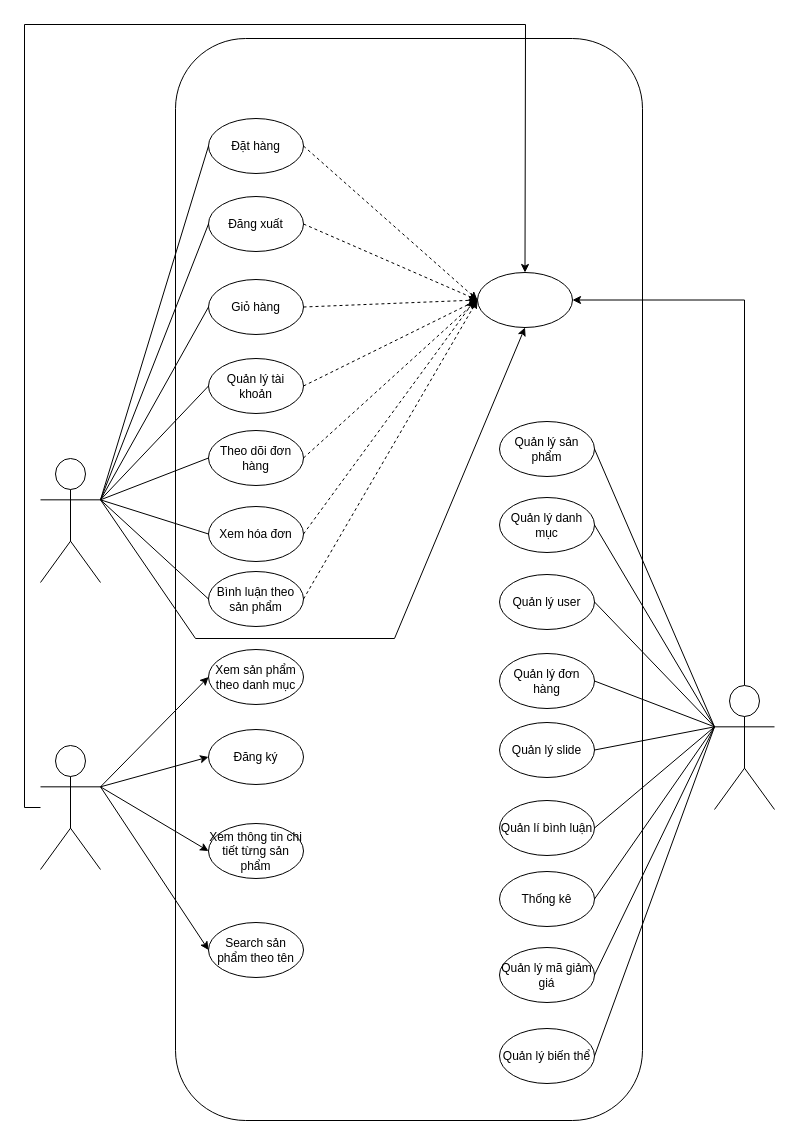
Image size: 792x1138. Some labels were removed from this diagram. Each missing label, with the centre of its shape:
Admin: (x=744, y=747)
Guest: (x=70, y=807)
User: (x=70, y=520)
Đăng nhập: (x=524, y=300)
